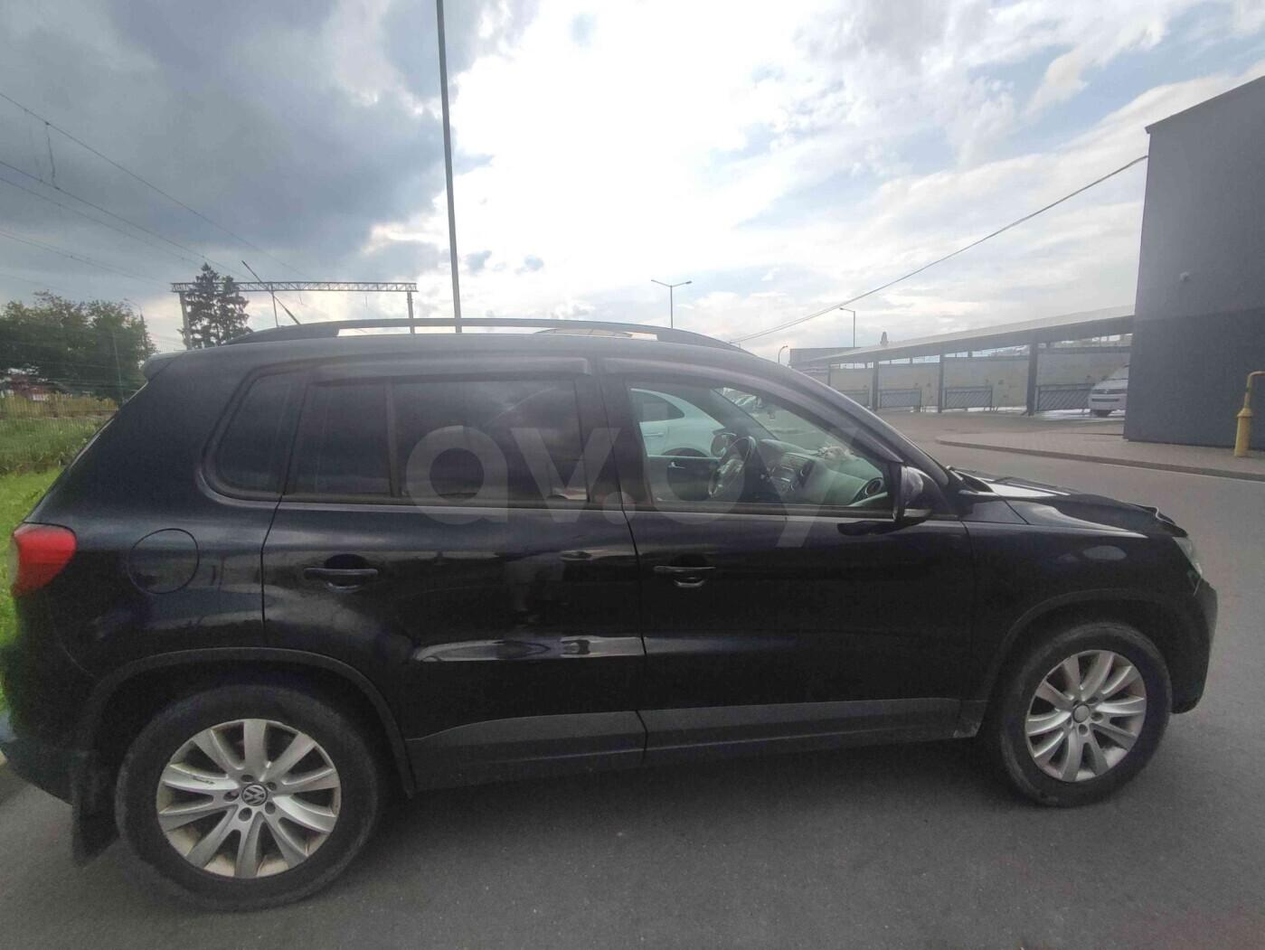Tiguan_2007-2011: (5, 319, 1217, 913)
